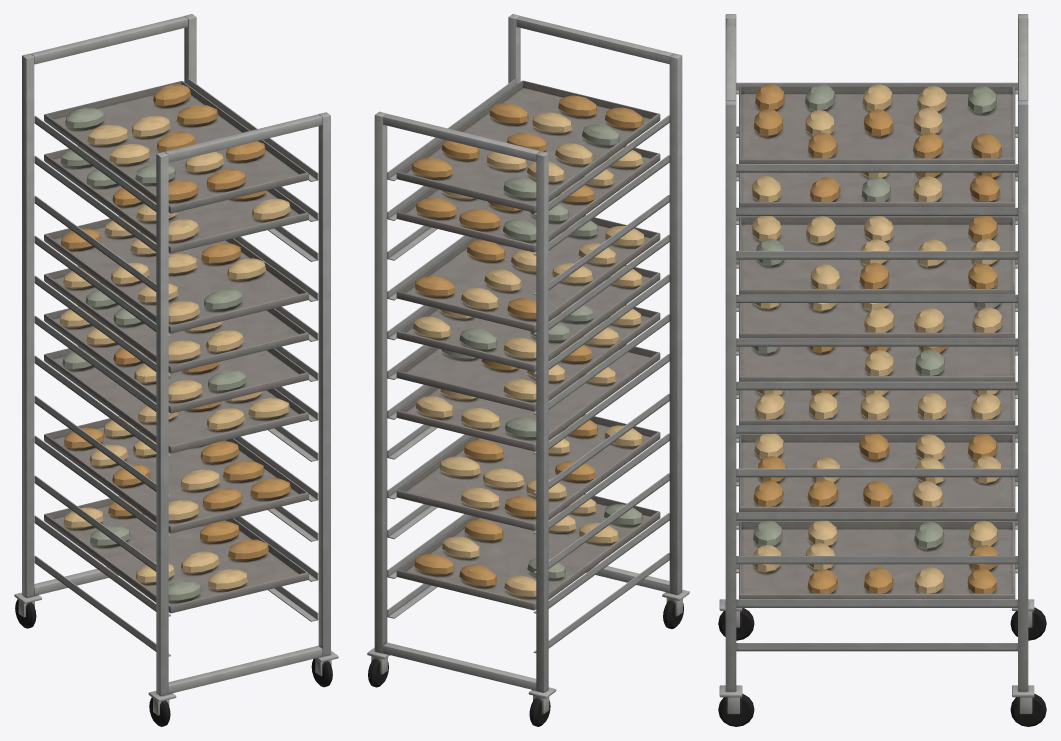
Rendered from carrinho_assadeiras.glb.
3 views of the same model, side by side, from view 1: azimuth 30°, elevation 25°; view 2: azimuth 150°, elevation 25°; view 3: azimuth 270°, elevation 25° (orthographic). The views are drawn at different scales.
Parts seen in each view (by area): view 1: carrinho; view 2: carrinho; view 3: carrinho.
Part boxes in pixels (<box>): carrinho: <box>14,14,338,726</box>; carrinho: <box>367,14,689,726</box>; carrinho: <box>718,14,1046,726</box>.
Bounding box in the file's own units: 0.566 × 1.72 × 0.82.
1 material, 1 textured.
